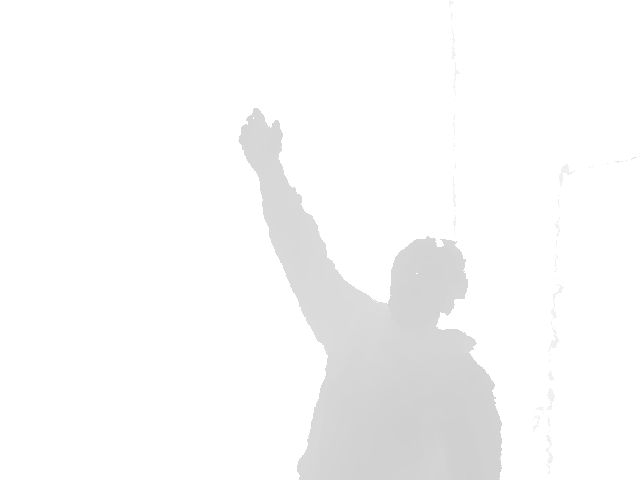hand: (237, 107, 285, 169)
head: (388, 237, 469, 340)
person: (237, 107, 504, 480)
